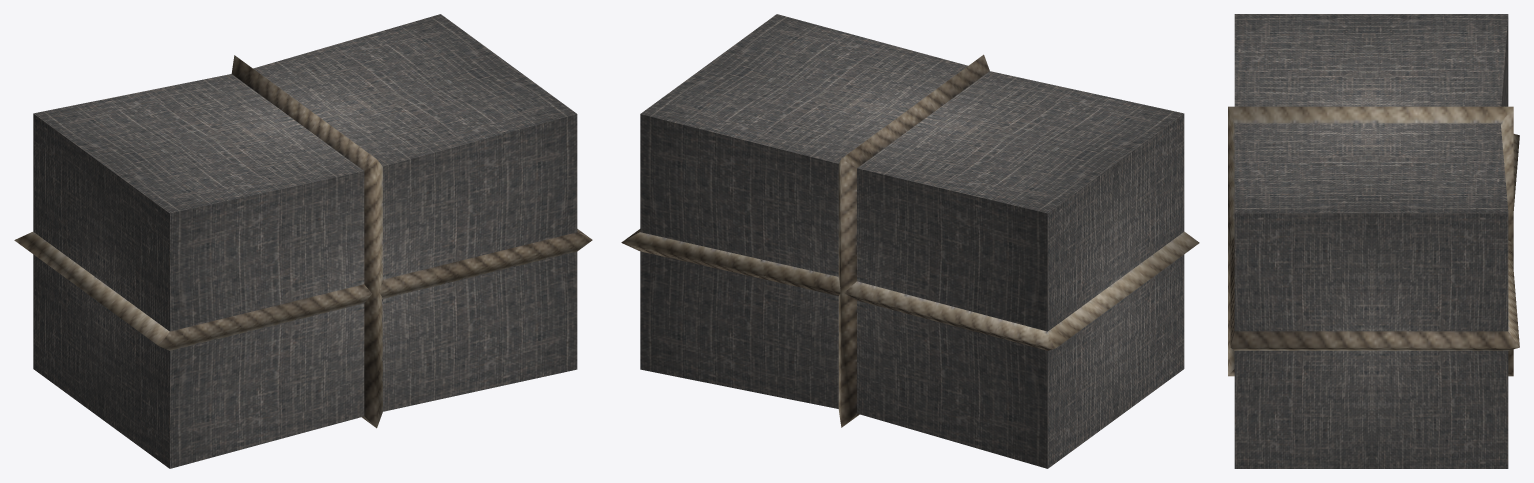
File: Package_Type_01_B.fbx
3 views of the same model, side by side, from view 1: azimuth 30°, elevation 25°; view 2: azimuth 150°, elevation 25°; view 3: azimuth 270°, elevation 25° (orthographic).
Visible parts, largest first — view 1: Package_Type_01_B; view 2: Package_Type_01_B; view 3: Package_Type_01_B.
Part boxes in pixels (left/top/right/bottom): Package_Type_01_B: left=14, top=14, right=592, bottom=468; Package_Type_01_B: left=621, top=14, right=1199, bottom=468; Package_Type_01_B: left=1228, top=14, right=1519, bottom=468.
Size of the model in its own units: 1.11 by 0.6549 by 0.6425.
